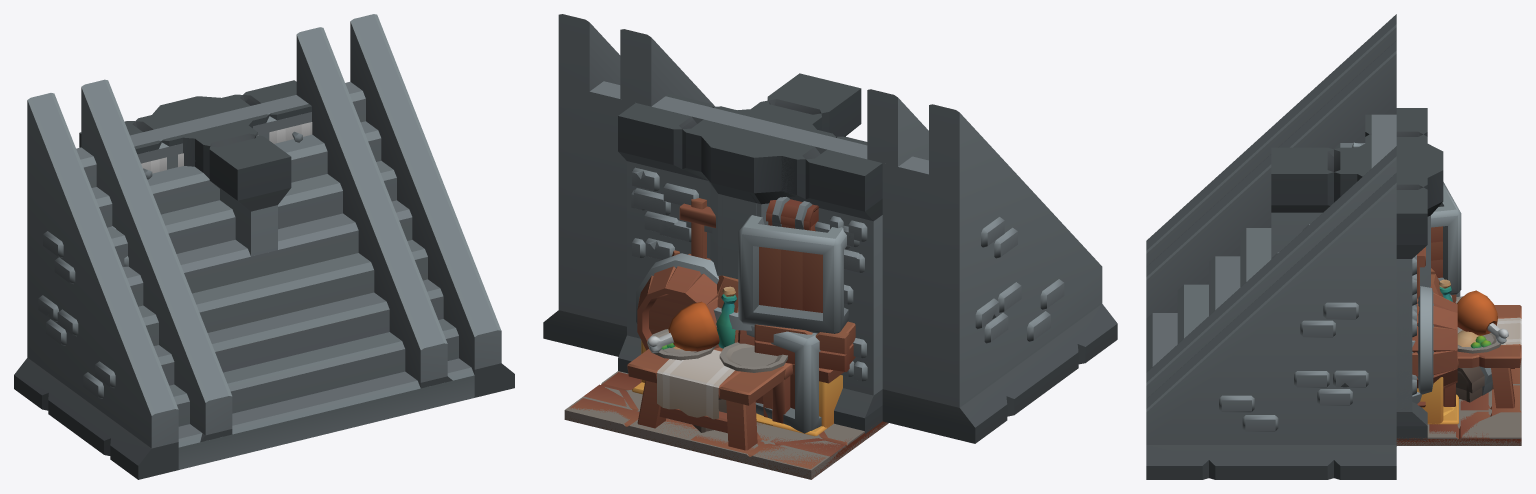
File: hall.glb
3 views of the same model, side by side, from view 1: azimuth 30°, elevation 25°; view 2: azimuth 150°, elevation 25°; view 3: azimuth 270°, elevation 25° (orthographic). The views are drawn at different scales.
Parts seen in each view (by area): view 1: d_stairs_wide, d_stairs, d_wall_corner, d_wall_arched, d_banner_triple_white, d_wall_pillar; view 2: d_stairs_wide, d_box_stacked, d_table_long_tablecloth_decorated_A, d_stairs, d_wall_pillar, d_wall_arched, d_wall_half, d_wall_corner, d_keg_decorated, d_floor_tile_large, d_wall, d_floor_wood_large (+7 smaller); view 3: d_stairs_wide, d_stairs, d_wall_corner, d_wall, d_table_long_tablecloth_decorated_A, d_wall_arched, d_keg_decorated, d_box_stacked, d_floor_tile_large, d_floor_wood_large, d_wall_pillar, d_wall_archedwindow_open (+2 smaller).
Part boxes in pixels (x1,y1,x2,y2): d_stairs_wide: (14, 14, 514, 479); d_stairs: (81, 27, 452, 442); d_wall_corner: (158, 123, 291, 256); d_wall_arched: (79, 80, 311, 154); d_banner_triple_white: (141, 122, 312, 179); d_wall_pillar: (142, 96, 252, 166); d_stairs_wide: (543, 14, 1117, 443); d_box_stacked: (671, 196, 848, 433); d_table_long_tablecloth_decorated_A: (627, 286, 787, 450); d_stairs: (620, 29, 928, 166); d_wall_pillar: (637, 108, 878, 429); d_wall_arched: (618, 93, 882, 430); d_wall_half: (618, 116, 736, 373); d_wall_corner: (731, 73, 873, 403); d_keg_decorated: (636, 253, 855, 383); d_floor_tile_large: (564, 371, 888, 479); d_wall: (642, 107, 882, 433); d_floor_wood_large: (566, 372, 887, 479); d_stairs_wide: (1146, 14, 1396, 479); d_stairs: (1146, 40, 1396, 398); d_wall_corner: (1271, 131, 1418, 257); d_wall: (1365, 108, 1427, 440); d_table_long_tablecloth_decorated_A: (1439, 279, 1521, 408); d_wall_arched: (1365, 108, 1427, 429); d_keg_decorated: (1412, 286, 1457, 407); d_box_stacked: (1412, 182, 1493, 403); d_floor_tile_large: (1396, 346, 1521, 445); d_floor_wood_large: (1396, 368, 1521, 445); d_wall_pillar: (1349, 120, 1443, 440); d_wall_archedwindow_open: (1396, 259, 1416, 411).
Size of the model in its own units: 7 by 5.92 by 6.
